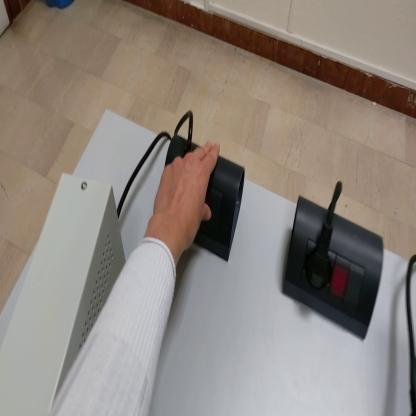hand: (151, 142, 220, 251)
power supply: (3, 171, 130, 413)
socket: (282, 193, 385, 344), (165, 136, 245, 264)
